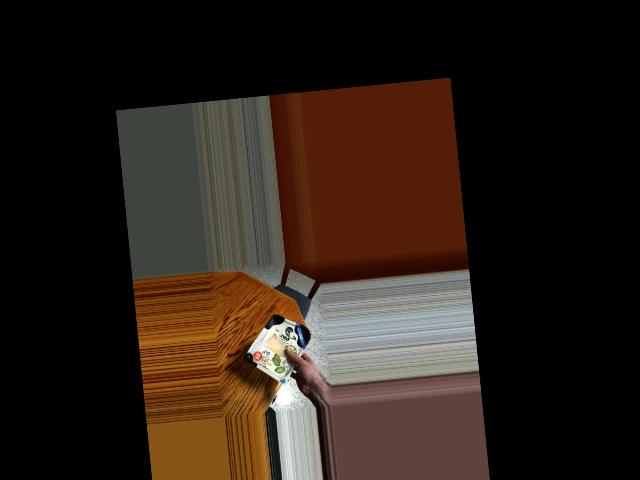cheese: (245, 311, 315, 375)
